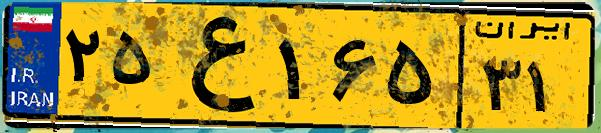1: (270, 28, 330, 110), (525, 38, 570, 115)
2: (57, 26, 110, 100)
3: (475, 38, 525, 113)
5: (385, 28, 445, 110), (110, 28, 158, 98)
6: (330, 28, 385, 110)
ع: (158, 12, 270, 120)
